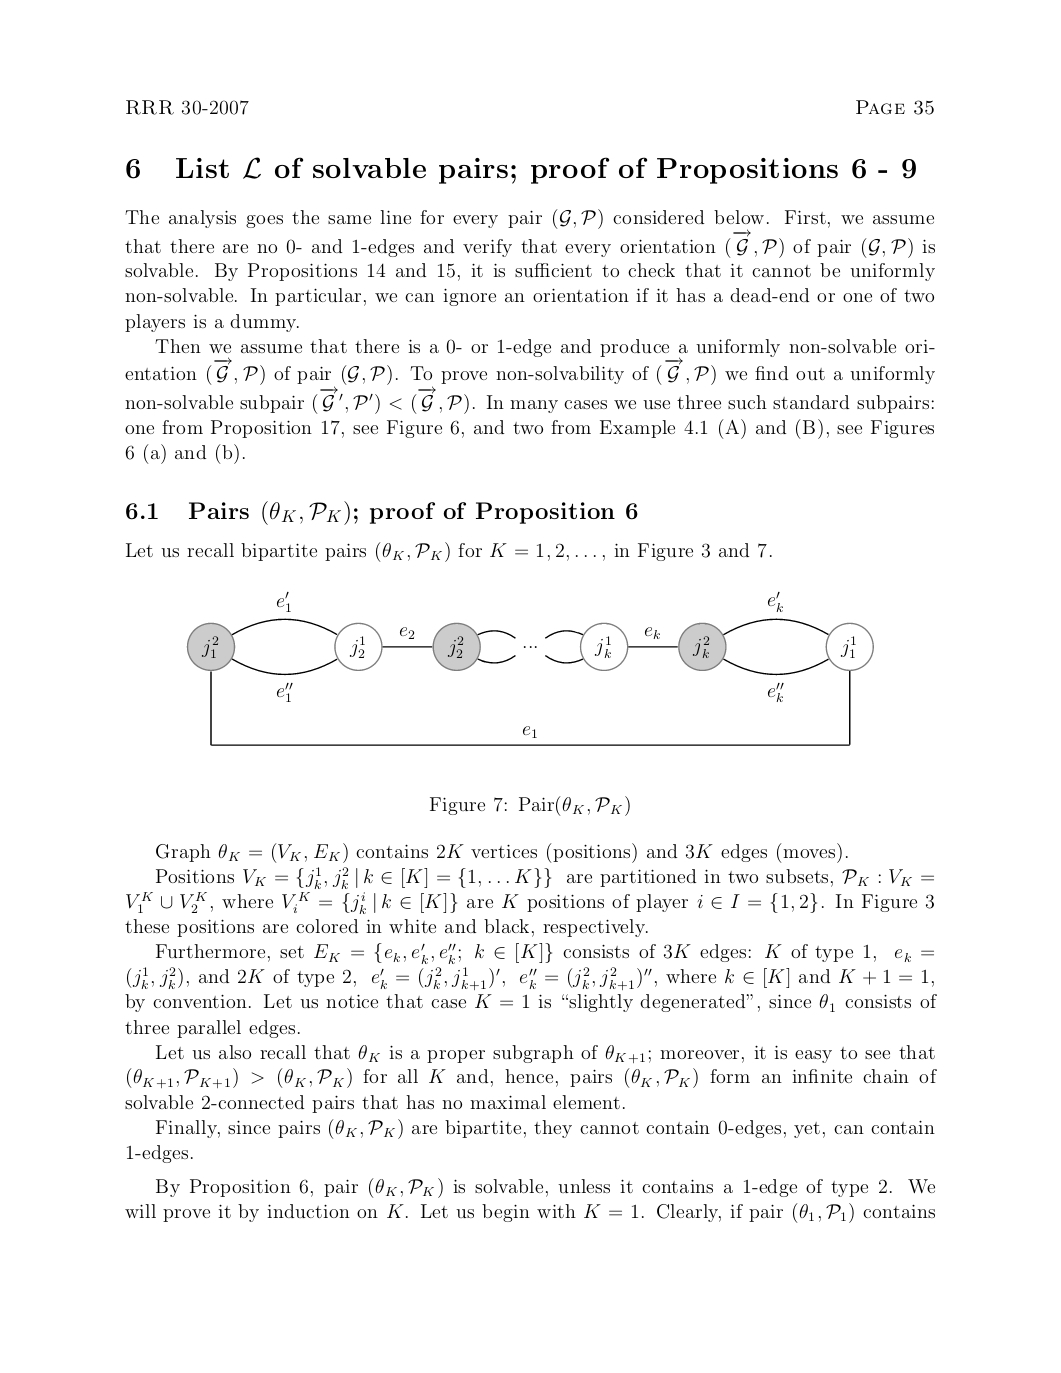figure: (186, 591, 873, 744)
